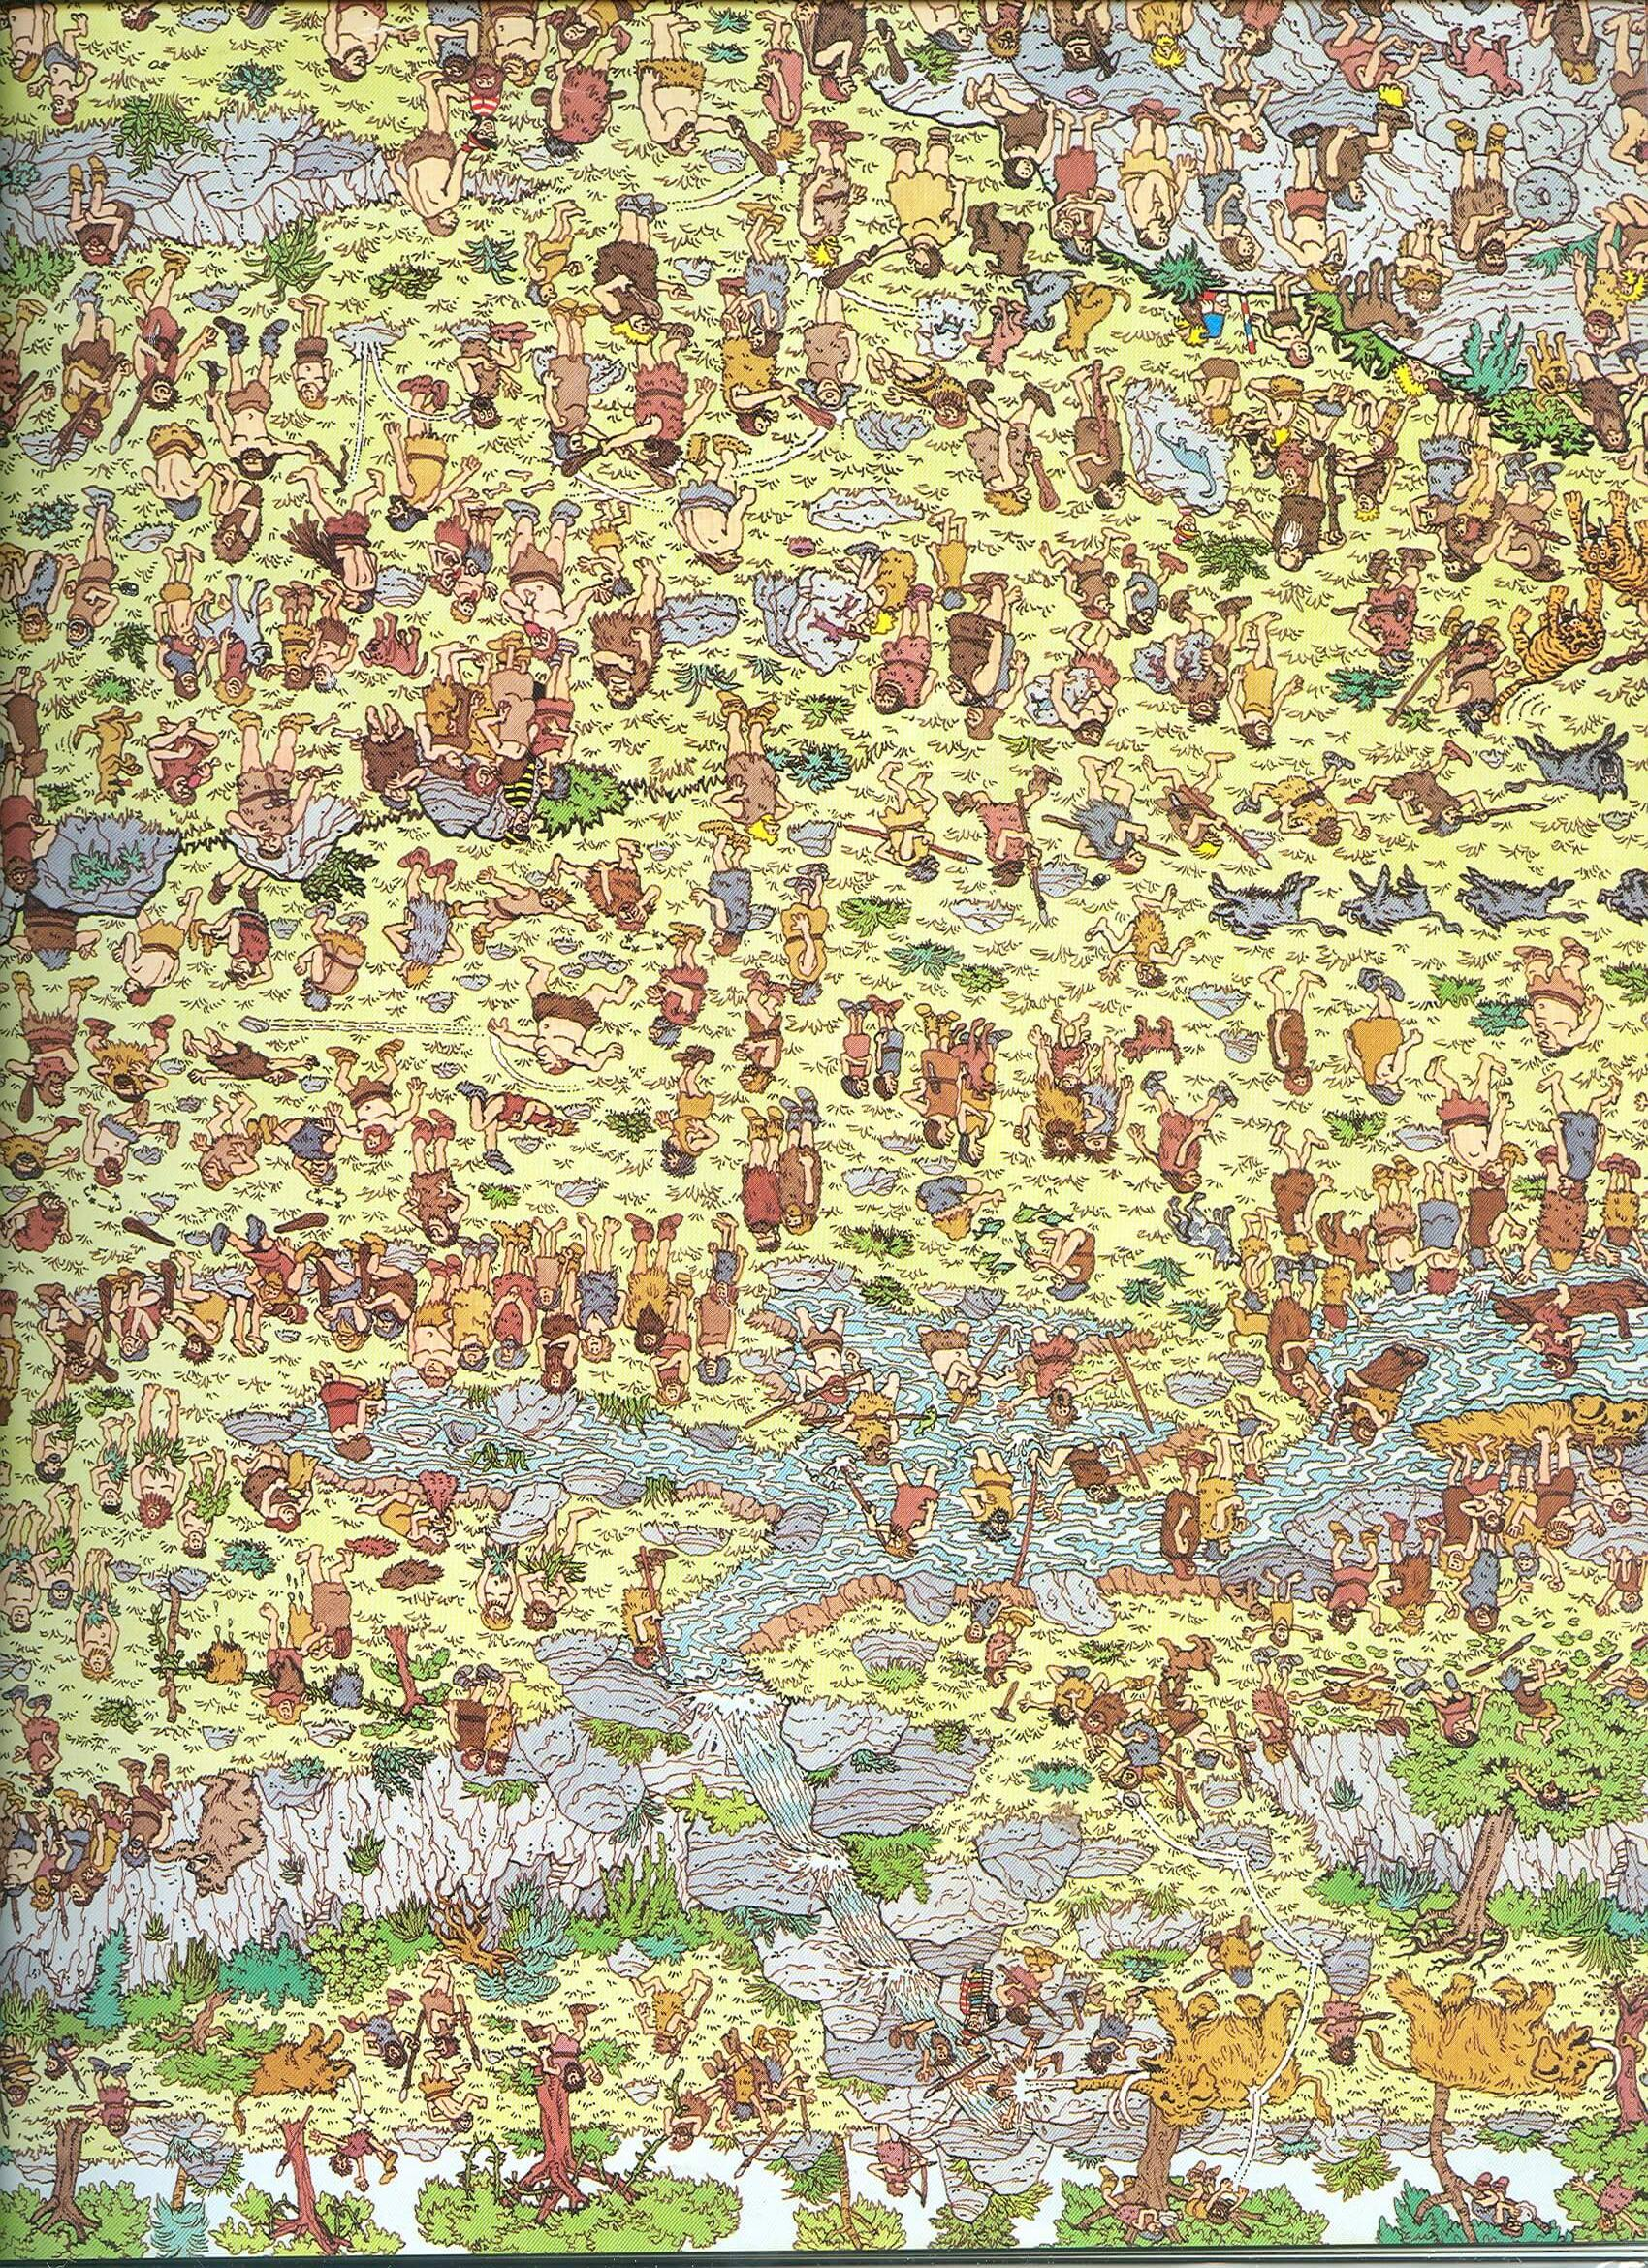waldos: (956, 1963, 998, 2050)
